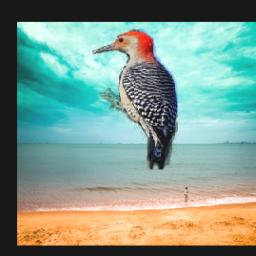Woodpecker: (92, 30, 178, 170)
